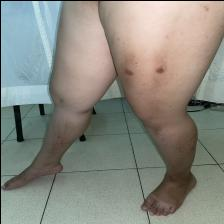DA: (120, 48, 176, 92), (154, 126, 194, 160)
